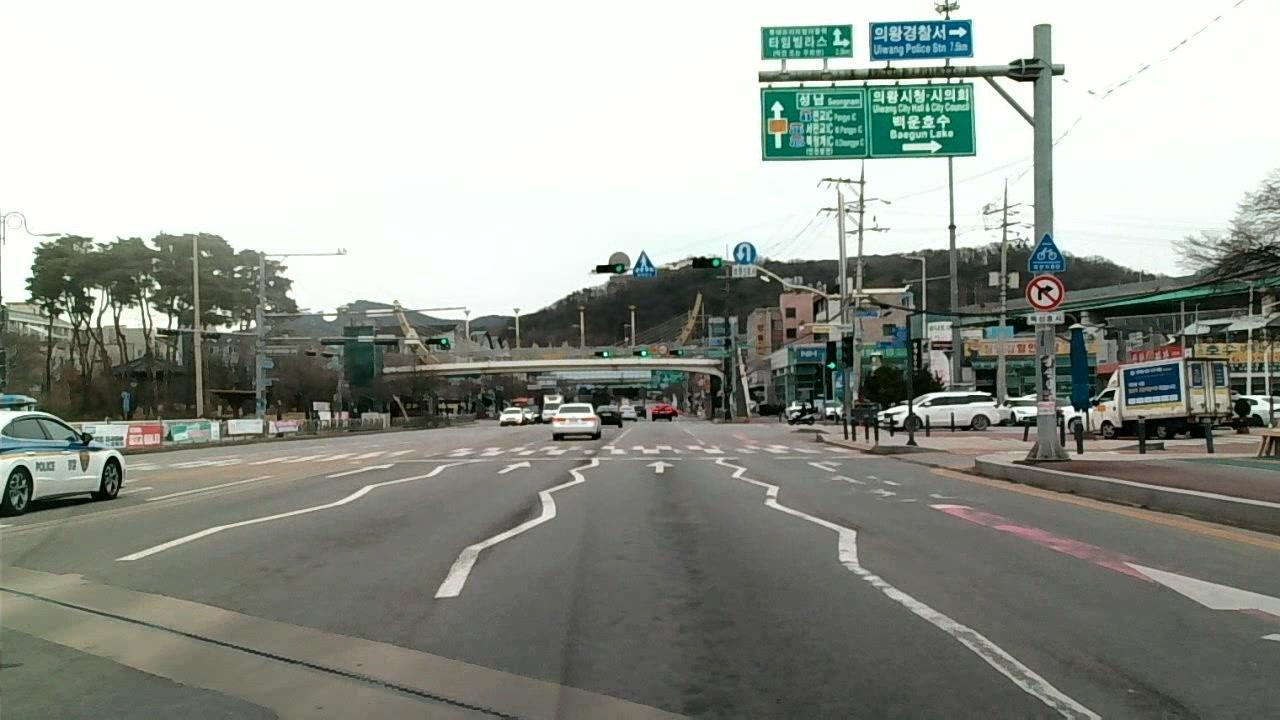vcrack: (15, 591, 255, 653), (276, 657, 510, 719)
